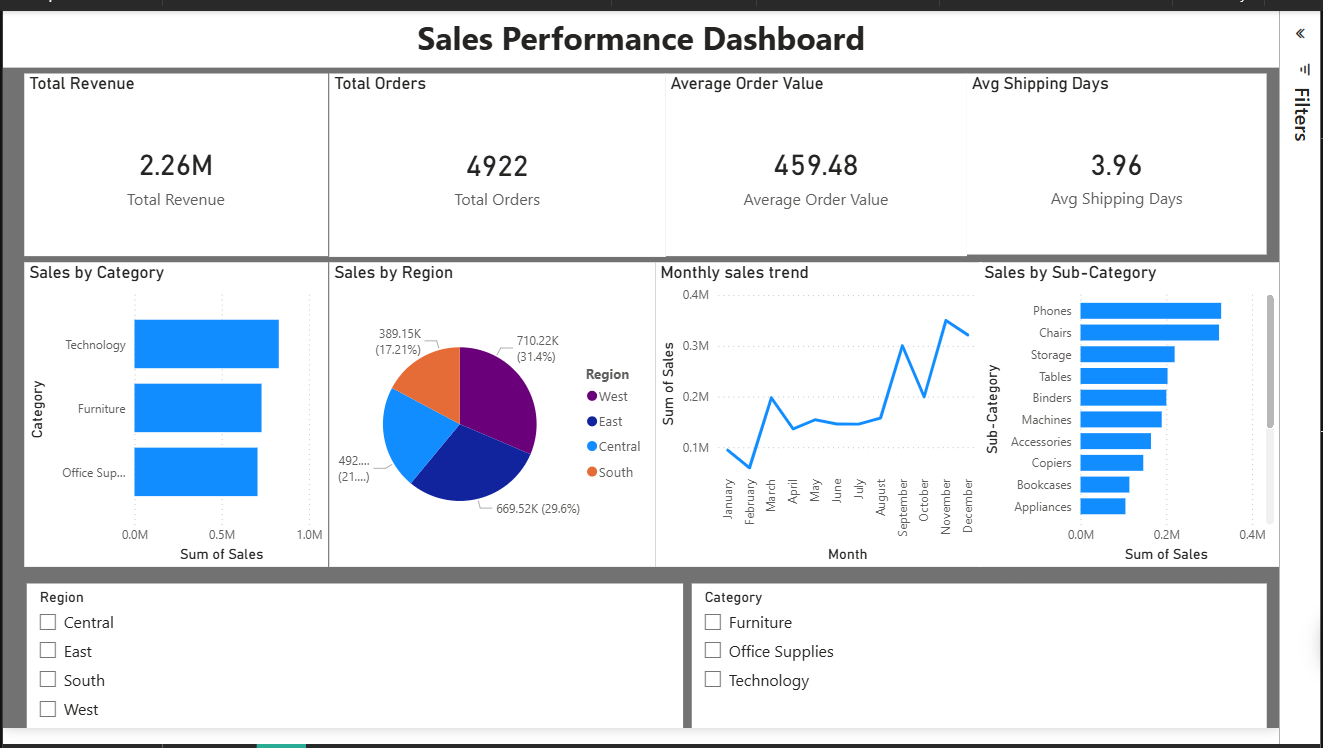

The dashboard page shown, as its layout file describes it:
{"tool":"powerbi","page":{"name":"Page 1","canvas":[1280,720],"ordinal":0},"visuals":[{"type":"card","title":"Total Revenue","fields":{"Values":["cleaned_data.Total Revenue"]},"box":[21.3,62.7,304.7,183.1],"z":0},{"type":"card","title":"Total Orders","fields":{"Values":["cleaned_data.Total Orders"]},"box":[327.3,62.7,337.3,184.3],"z":1},{"type":"card","title":"Average Order Value","fields":{"Values":["cleaned_data.Average Order Value"]},"box":[664.6,62.7,302.2,183.1],"z":2},{"type":"card","title":"Avg Shipping Days","fields":{"Values":["cleaned_data.Avg Shipping Days"]},"box":[966.8,62.7,300.9,181.8],"z":4},{"type":"clusteredBarChart","title":"Sales by Category","fields":{"Category":["cleaned_data.Category"],"Y":["Sum(cleaned_data.Sales)"]},"box":[21.3,252,304.7,306],"z":5},{"type":"pieChart","title":"Sales by Region","fields":{"Category":["cleaned_data.Region"],"Y":["Sum(cleaned_data.Sales)"]},"box":[327.3,252,327.3,306],"z":6},{"type":"lineChart","title":"Monthly sales trend","fields":{"Category":["cleaned_data.Order Date.Variation.Date Hierarchy.Year","cleaned_data.Order Date.Variation.Date Hierarchy.Quarter","cleaned_data.Order Date.Variation.Date Hierarchy.Month","cleaned_data.Order Date.Variation.Date Hierarchy.Day"],"Y":["Sum(cleaned_data.Sales)"]},"box":[654.5,252,327.3,306],"z":7},{"type":"clusteredBarChart","title":"Sales by Sub-Category","fields":{"Category":["cleaned_data.Sub-Category"],"Y":["Sum(cleaned_data.Sales)"]},"box":[979.3,252,300.9,306],"z":8},{"type":"slicer","fields":{"Values":["cleaned_data.Region"]},"box":[23.8,574.3,658.3,145.5],"z":9},{"type":"slicer","fields":{"Values":["cleaned_data.Category"]},"box":[690.9,574.3,576.8,145.5],"z":10},{"type":"textbox","box":[0,0,1280.3,56.4],"z":13}]}

Visuals, with their boxes in screenshot pixels (x1, y1, x2, y2):
"Total Revenue" card: bbox=[22, 71, 332, 257]
"Total Orders" card: bbox=[334, 71, 677, 259]
"Average Order Value" card: bbox=[677, 71, 985, 257]
"Avg Shipping Days" card: bbox=[985, 71, 1292, 256]
"Sales by Category" clusteredBarChart: bbox=[22, 264, 332, 576]
"Sales by Region" pieChart: bbox=[334, 264, 667, 576]
"Monthly sales trend" lineChart: bbox=[667, 264, 1001, 576]
"Sales by Sub-Category" clusteredBarChart: bbox=[998, 264, 1305, 576]
slicer - cleaned_data.Region: bbox=[24, 592, 695, 741]
slicer - cleaned_data.Category: bbox=[704, 592, 1292, 741]
textbox: bbox=[0, 7, 1305, 64]
